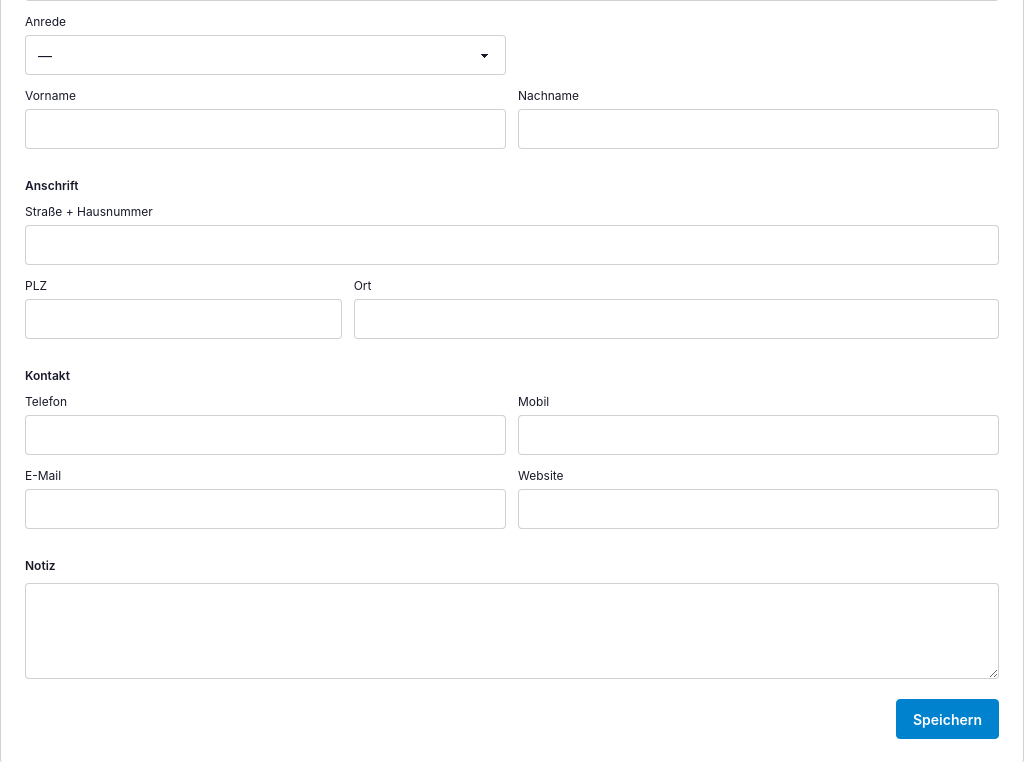
CustomerForm › rejects save without any name
The width and height of the screenshot is (1024, 762).
(page scrolled)
Click the button "Speichern" at point(947, 719), box [896,699,999,739]
(page scrolled)
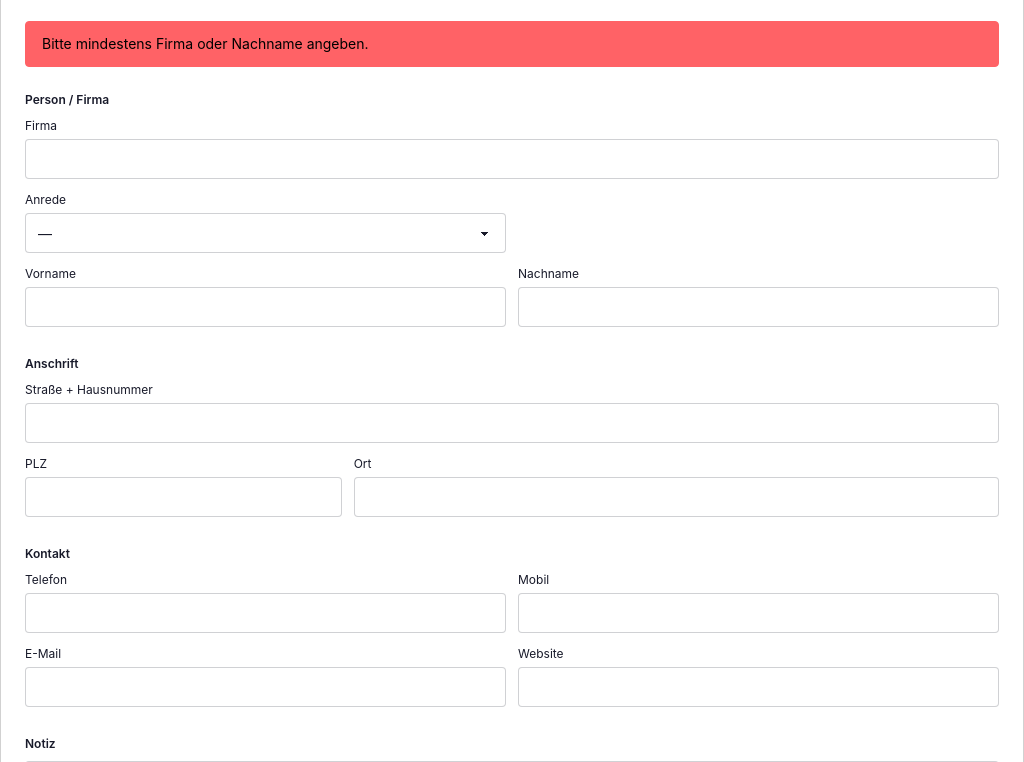
Now the text "Bitte mindestens Firma oder Nachname angeben." is shown, box [42,34,369,54]
